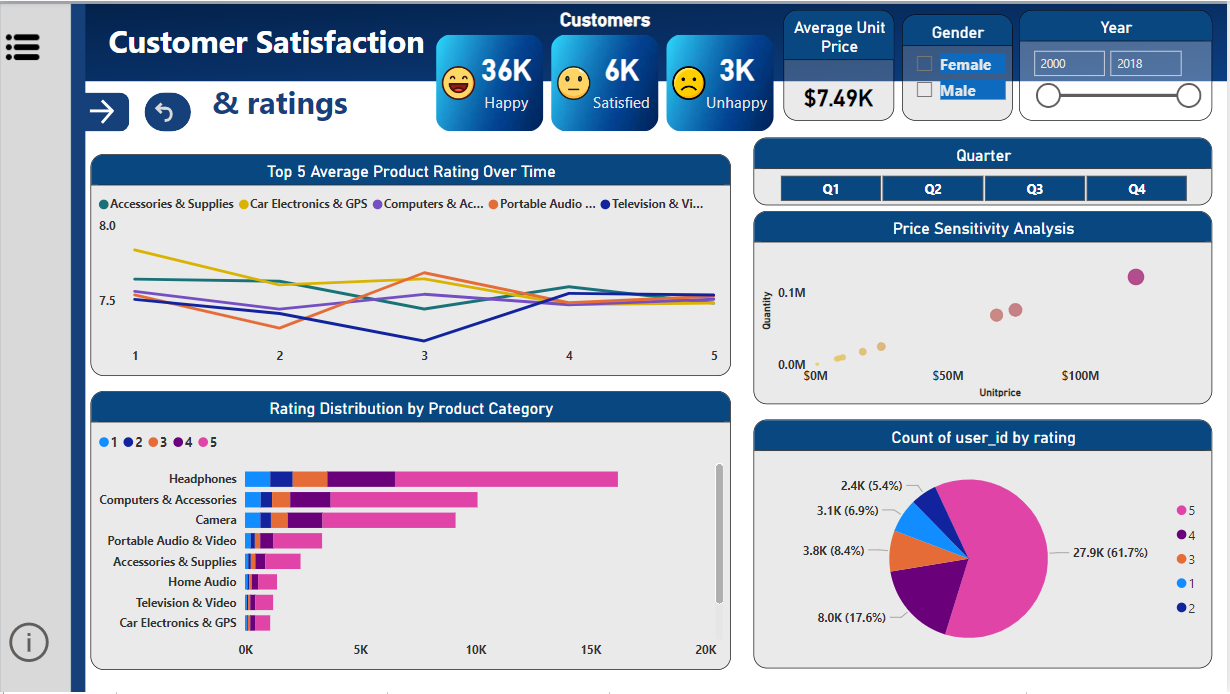

The page's visual inventory and layout, read from the dashboard file:
{"tool":"powerbi","page":{"name":"Customer Satisfaction & Ratings Dashboard","canvas":[1280,720],"ordinal":3},"visuals":[{"type":"slicer","title":"Year","fields":{"Values":["cleaned.year"]},"box":[1063.4,1.2,201.2,115.5],"z":0,"group":"g1"},{"type":"actionButton","title":"Reset","box":[151.6,95.3,48.5,40.6],"z":0},{"type":"actionButton","title":"info","box":[4.9,628.3,53.1,79.7],"z":0,"group":"g2"},{"type":"actionButton","title":"Menu","box":[3.3,0,56.1,95.7],"z":1000,"group":"g2"},{"type":"cardVisual","title":"Average Unit Price","fields":{"Data":["Avg(cleaned.unitprice)"]},"box":[818.1,1,115.5,115.5],"z":1000,"group":"g1"},{"type":"actionButton","title":"Close Page","box":[89.1,95.3,46.9,40.6],"z":1000},{"type":"group","id":"g1","title":"Customers","box":[89.1,0,1179.9,689.3],"z":2000},{"type":"cardVisual","title":"Customers","fields":{"Data":["cleaned.Promoters","cleaned.Passives","cleaned.Detractors"]},"box":[450.2,0,362.9,133.6],"z":2000,"group":"g1"},{"type":"lineChart","title":"Top 5 Average Product Rating Over Time","fields":{"Category":["cleaned.rating"],"Y":["Avg(cleaned.quantity)"],"Series":["cleaned.category"]},"box":[95.2,151.4,667.4,231.3],"z":3000,"group":"g1"},{"type":"slicer","title":"Quarter","fields":{"Values":["cleaned.Quarter"]},"box":[786,134.2,478.3,70.3],"z":4000,"group":"g1"},{"type":"group","id":"g2","title":"Menu bar","box":[3.3,0,54.4,707.6],"z":5000},{"type":"scatterChart","title":"Price Sensitivity Analysis","fields":{"X":["Sum(cleaned.unitprice)"],"Y":["Sum(cleaned.quantity)"],"Category":["cleaned.category"],"Size":["Sum(cleaned.amount)"]},"box":[786,210.8,478.3,201.6],"z":5000,"group":"g1"},{"type":"textbox","box":[217.8,70.8,174.8,62.7],"z":5500,"group":"g1"},{"type":"barChart","title":"Rating Distribution by Product Category","fields":{"Category":["cleaned.category"],"Y":["CountNonNull(cleaned.rating)"],"Series":["cleaned.rating"]},"box":[95.2,398.3,667.4,290.7],"z":6000,"group":"g1"},{"type":"slicer","title":"Gender","fields":{"Values":["cleaned.gender"]},"box":[940.2,6.4,115.5,110.5],"z":6500,"group":"g1"},{"type":"pieChart","fields":{"Category":["cleaned.rating"],"Y":["CountNonNull(cleaned.user_id)"]},"box":[790.7,429.8,478.3,259.5],"z":7000,"group":"g1"},{"type":"textbox","box":[89.1,6.8,379.4,64.3],"z":8000,"group":"g1"}]}

Visuals, with their boxes in screenshot pixels (x1, y1, x2, y2), scaled from the page's 1280x720 canvas onto the 1230x694 screenshot:
"Year" slicer: bbox=(1022, 1, 1215, 112)
"Reset" actionButton: bbox=(146, 92, 192, 131)
"info" actionButton: bbox=(5, 606, 56, 682)
"Menu" actionButton: bbox=(3, 0, 57, 92)
"Average Unit Price" cardVisual: bbox=(786, 1, 897, 112)
"Close Page" actionButton: bbox=(86, 92, 131, 131)
"Customers" group: bbox=(86, 0, 1219, 664)
"Customers" cardVisual: bbox=(433, 0, 781, 129)
"Top 5 Average Product Rating Over Time" lineChart: bbox=(91, 146, 733, 369)
"Quarter" slicer: bbox=(755, 129, 1215, 197)
"Menu bar" group: bbox=(3, 0, 55, 682)
"Price Sensitivity Analysis" scatterChart: bbox=(755, 203, 1215, 398)
textbox: bbox=(209, 68, 377, 129)
"Rating Distribution by Product Category" barChart: bbox=(91, 384, 733, 664)
"Gender" slicer: bbox=(903, 6, 1014, 113)
pieChart - cleaned.rating x CountNonNull(cleaned.user_id): bbox=(760, 414, 1219, 664)
textbox: bbox=(86, 7, 450, 69)
